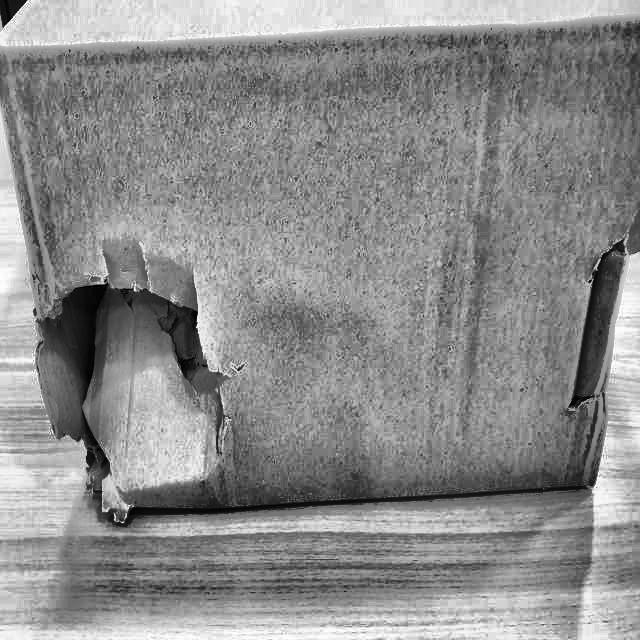box: (0, 0, 639, 530)
hole: (31, 254, 245, 516), (564, 224, 632, 406)
